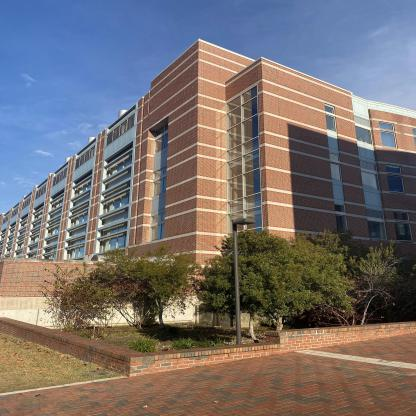EB-1: (11, 43, 416, 318)
